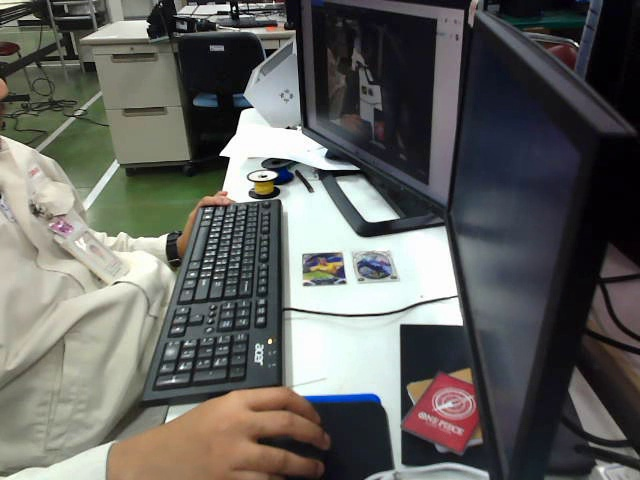can: (347, 241, 400, 284), (297, 243, 344, 287)
